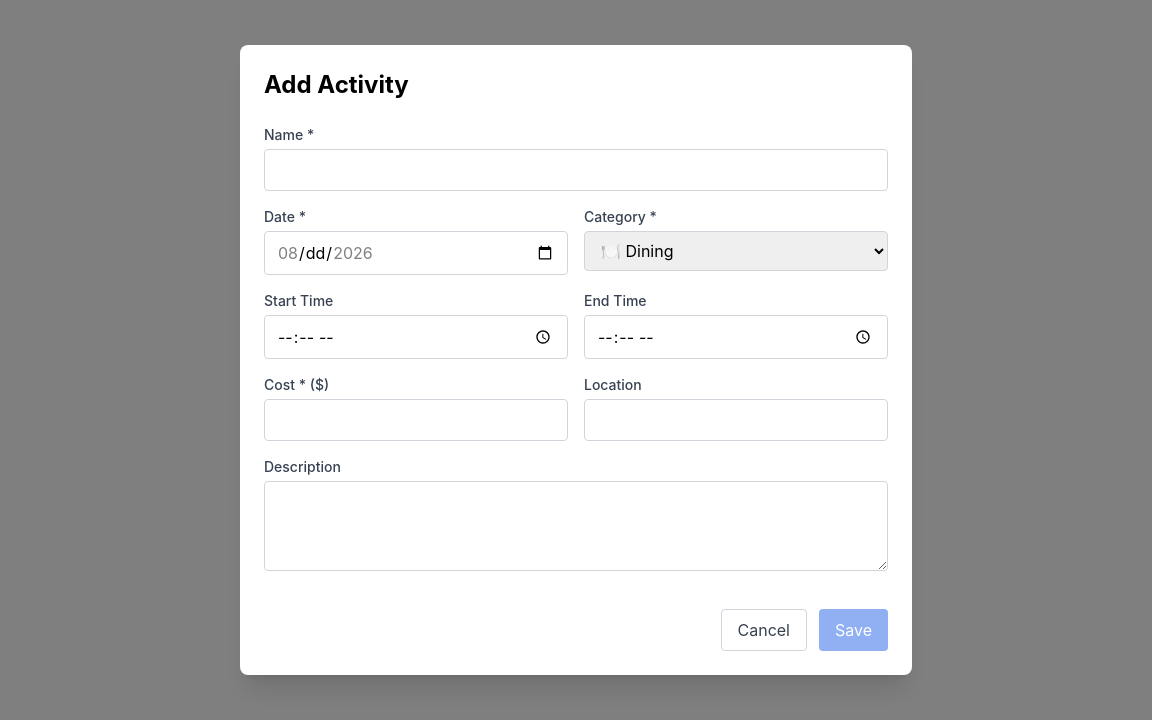
Test: ActivityFormModal › create mode › shows validation error when cost is negative
Type "Test Activity" into the field labelled "Name *" at {"x": 576, "y": 170}, box [264,149,888,191]
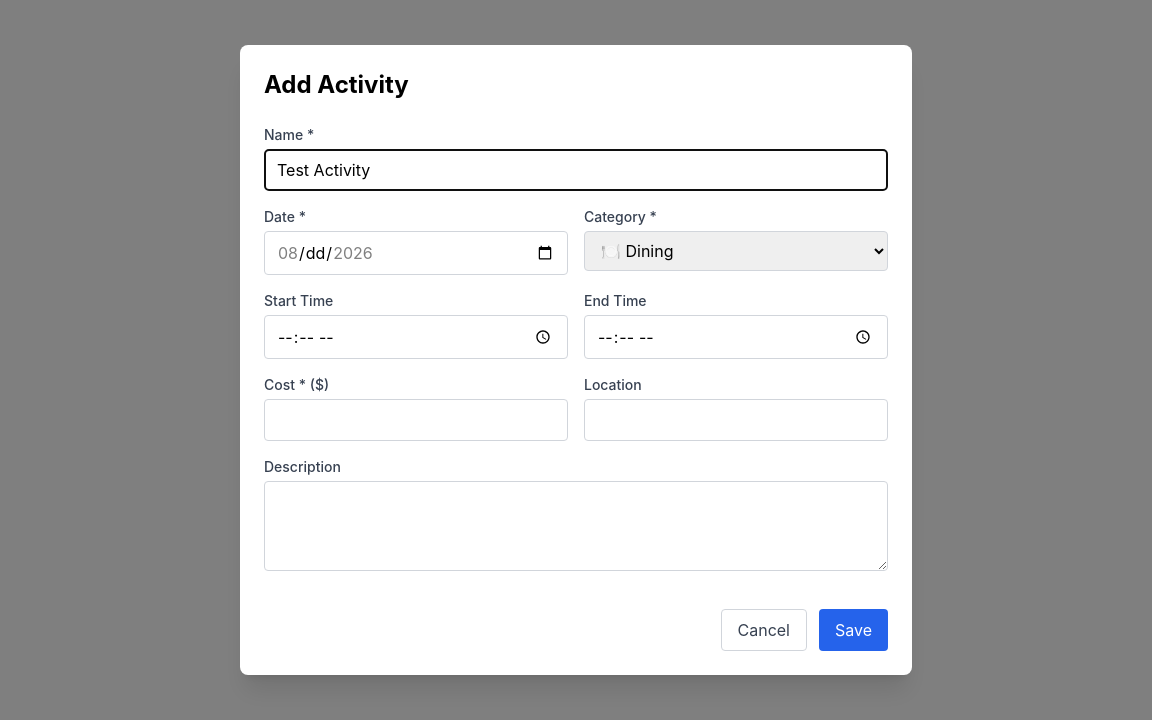
Type "-10" into the number field labelled "Cost * ($)" at {"x": 416, "y": 420}, box [264,399,568,441]
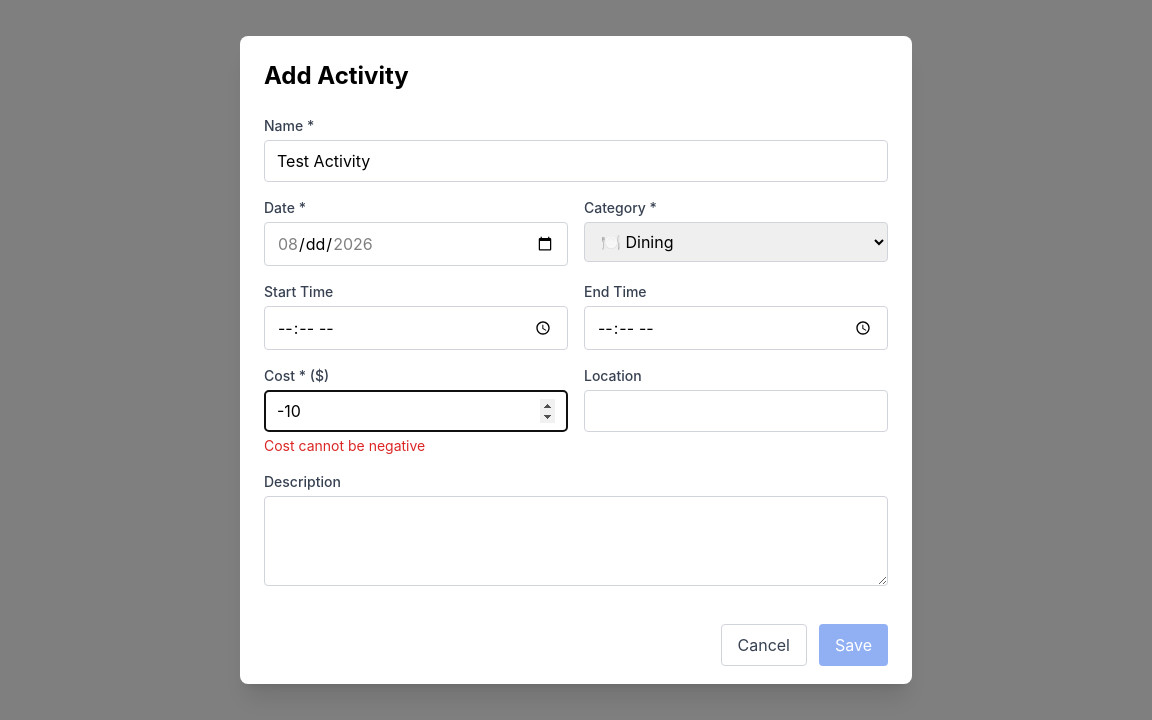
Now the text "Cost cannot be negative" is shown, box [264,437,425,454]
